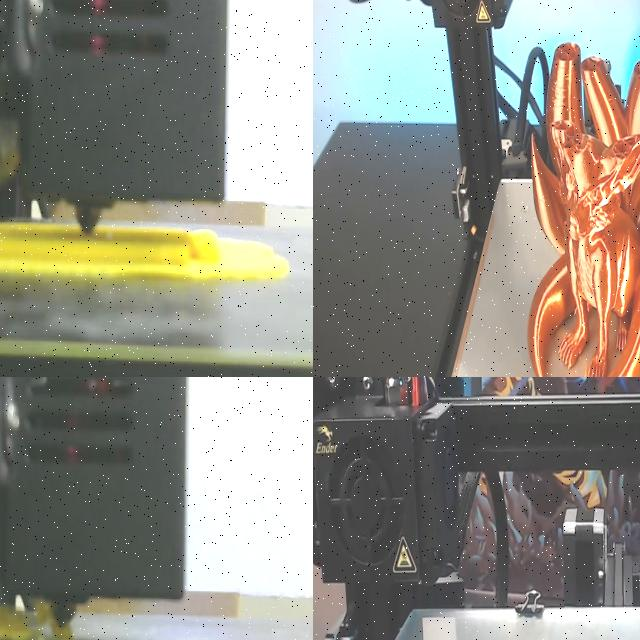spaghetti: (0, 595, 76, 640)
